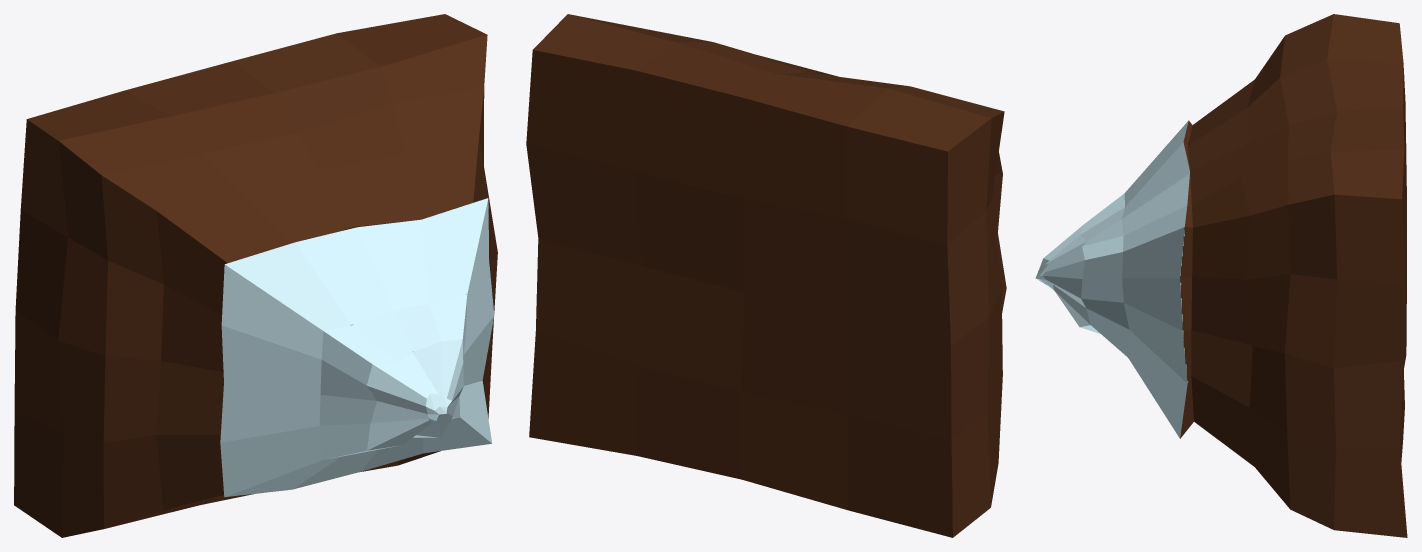
The model's file is mountain.glb.
The picture shows the model from 3 angles, left to right: view 1: azimuth 30°, elevation 25°; view 2: azimuth 150°, elevation 25°; view 3: azimuth 270°, elevation 25°; orthographic projection. The views are drawn at different scales.
Visible parts, largest first — view 1: Mountain; view 2: Mountain; view 3: Mountain.
Part boxes in pixels (left/top/right/bottom): Mountain: left=14, top=14, right=497, bottom=537; Mountain: left=526, top=14, right=1006, bottom=537; Mountain: left=1035, top=14, right=1407, bottom=537.
Size of the model in its own units: 12.38 by 10.87 by 10.62.
Materials: 1 (1 with a texture image).
